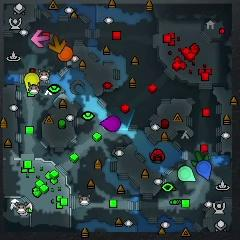p1: (196, 160, 212, 180)
p2: (178, 166, 196, 182)
p3: (99, 115, 121, 131)
p4: (25, 73, 39, 91)
p5: (58, 46, 73, 61)
x1: (31, 30, 48, 47)
x4: (192, 151, 209, 166)
x5: (49, 35, 67, 53)
